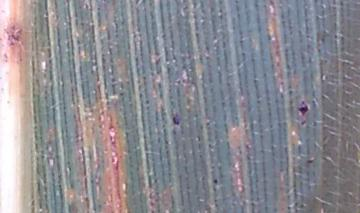tarspot: (298, 101, 308, 116), (172, 114, 181, 126), (306, 158, 314, 165), (299, 119, 307, 126), (212, 178, 218, 184)
